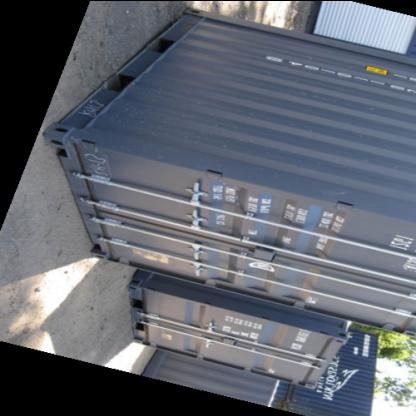Damage: (78, 141, 116, 181), (77, 94, 110, 120), (316, 182, 354, 201)
